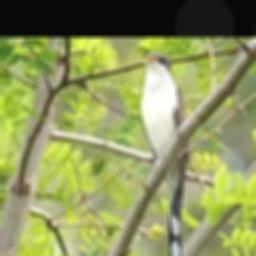Cuckoo: (139, 52, 188, 256)
